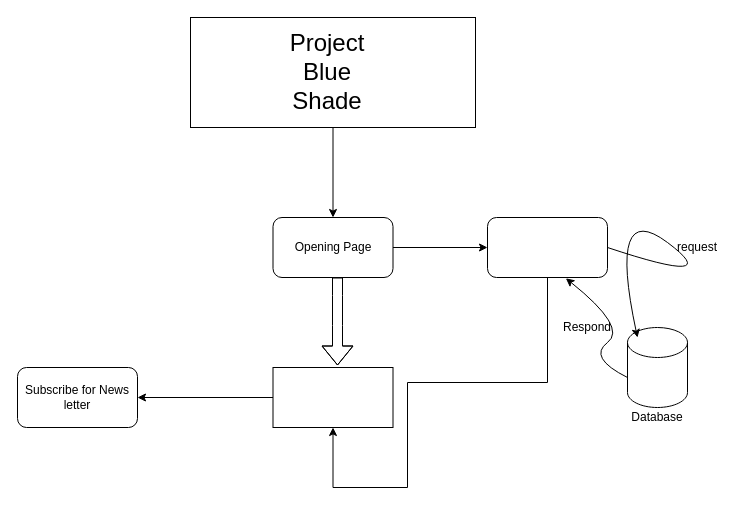
The diagram is 735 pixels wide and 513 high, and some of its shapes have lost their labels. Each missing label, with the centre of its shape:
"Blog Page" goes at point (332, 397).
"Login Page" goes at point (547, 247).
